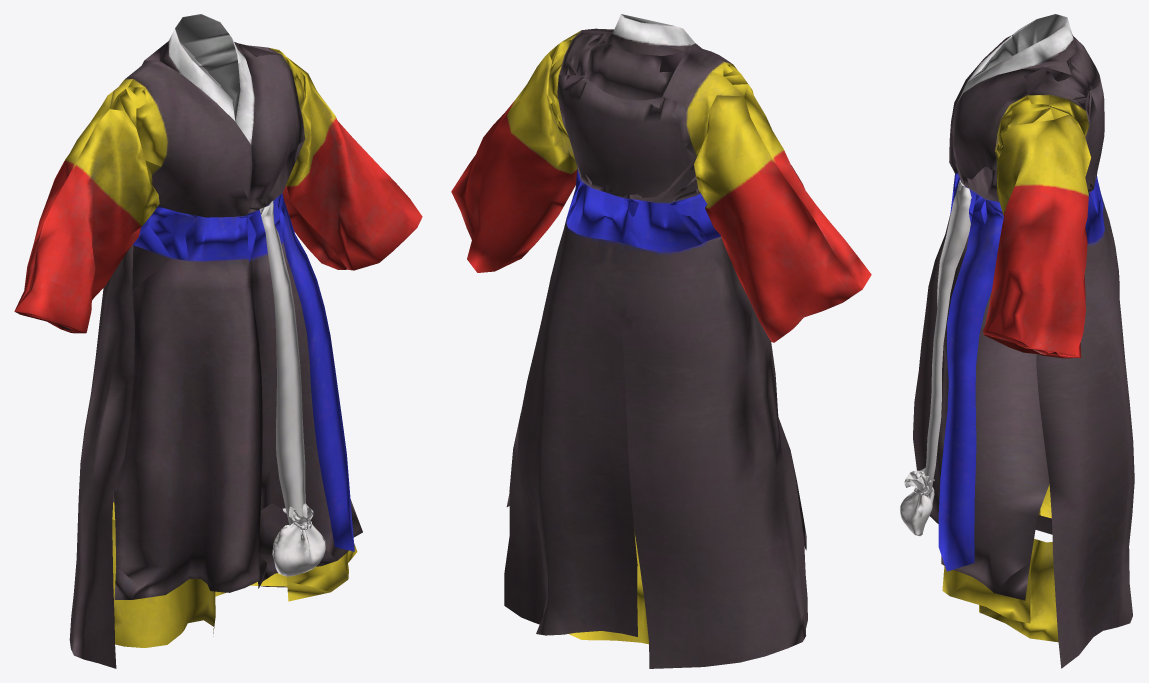
The model's file is Satto_Upper.dae.
3 views of the same model, side by side, from view 1: azimuth 30°, elevation 25°; view 2: azimuth 150°, elevation 25°; view 3: azimuth 270°, elevation 25° (orthographic). The views are drawn at different scales.
Parts seen in each view (by area): view 1: Satto_Upper; view 2: Satto_Upper; view 3: Satto_Upper.
Part boxes in pixels (x1,y1,x2,y2): Satto_Upper: (14,14,422,668); Satto_Upper: (451,14,871,668); Satto_Upper: (900,14,1134,668).
Size of the model in its own units: 1.02 by 0.5349 by 1.48.
1 material, 1 textured.
